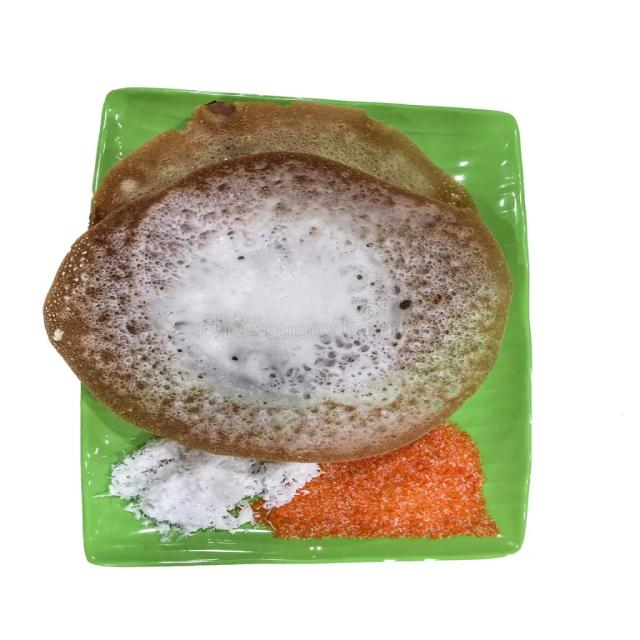AAPAM: (45, 102, 512, 462)
RED CHUTNEY: (252, 424, 499, 539)
WHITE CHUTNEY: (110, 439, 319, 534)
